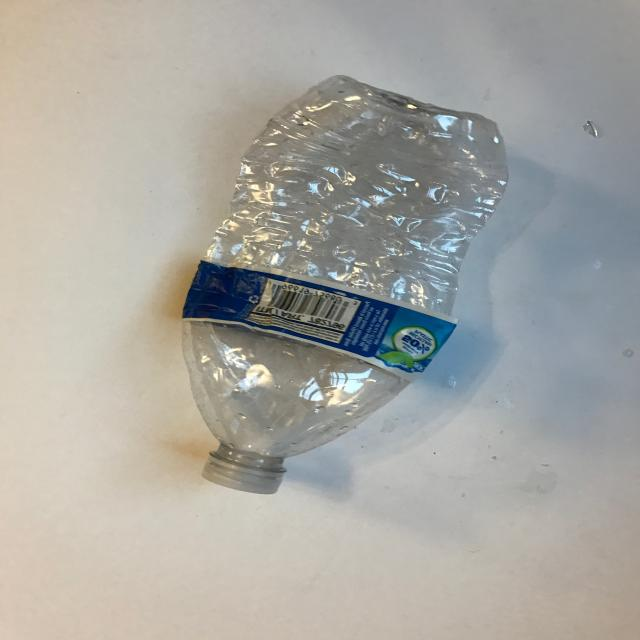plastic: (180, 74, 510, 494)
